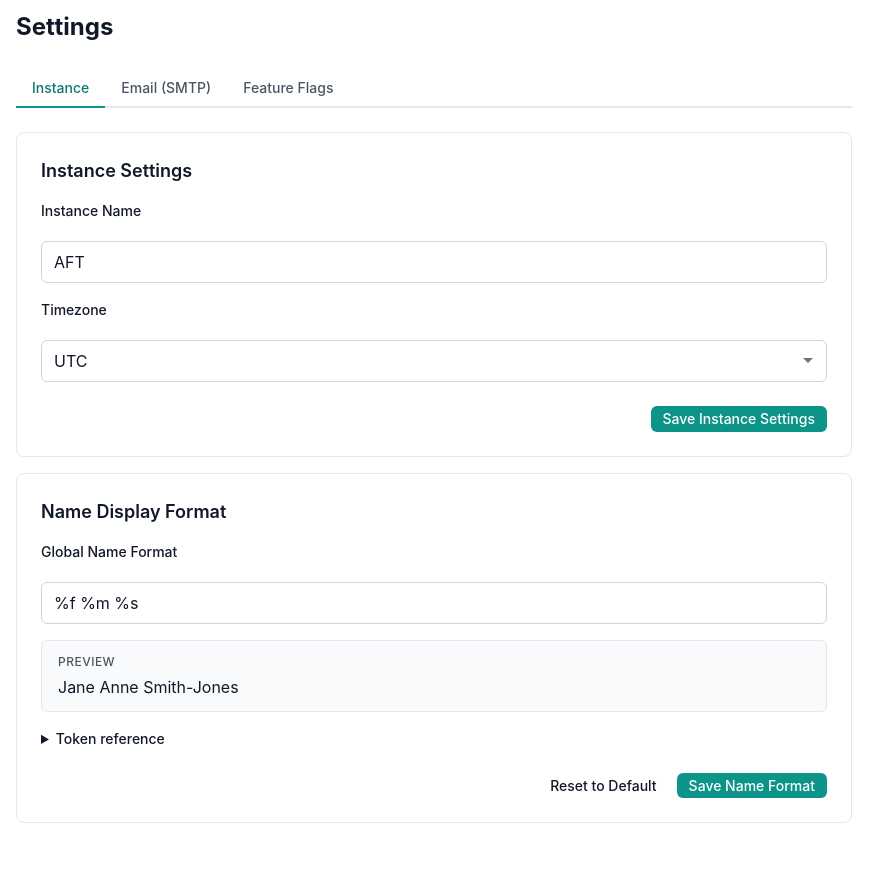
Scenario: AdminSettingsPage name display format › rejects %D in the global format before saving
The image size is (869, 877).
Replace the text in the field labelled "Global Name Format" with "%D" at [434, 602], box [41,582,827,624]
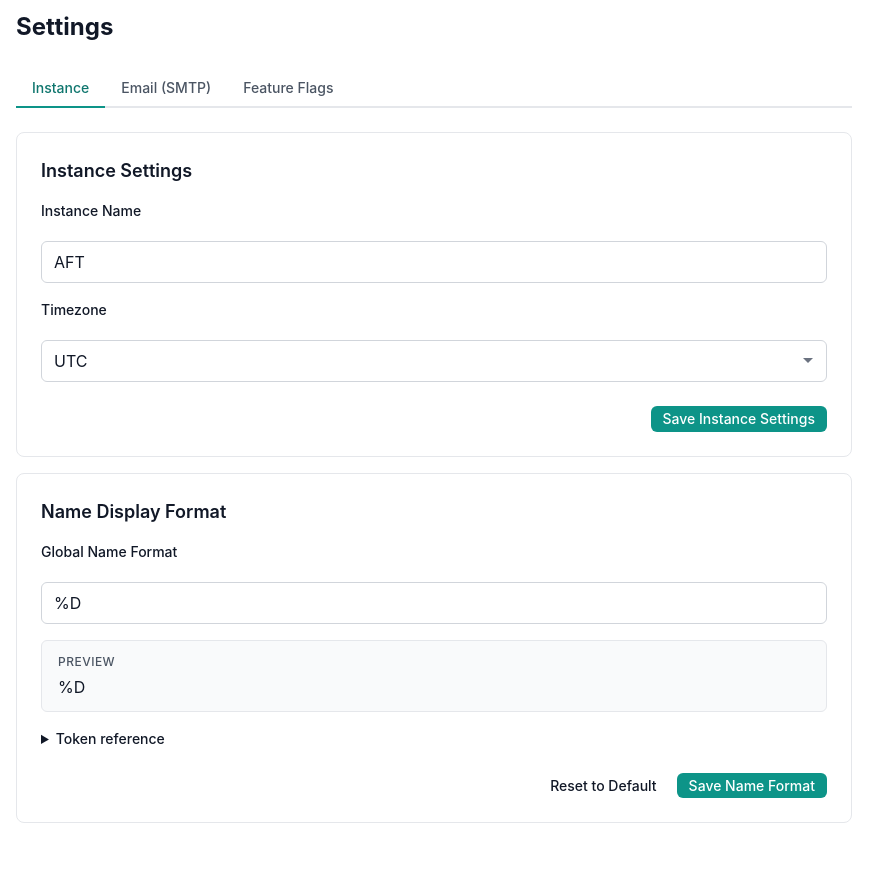
Click the button "Save Name Format" at [752, 785], box [677,772,827,798]
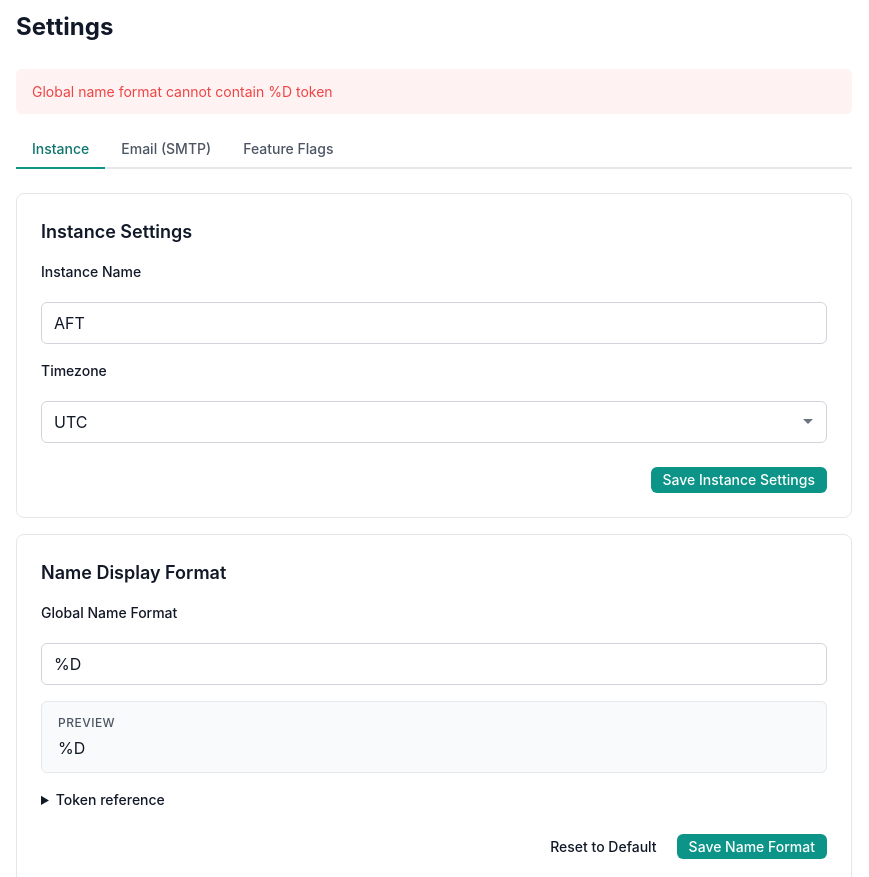
Expected: the text "Global name format cannot contain %D token" is shown, [16,69,852,114]
